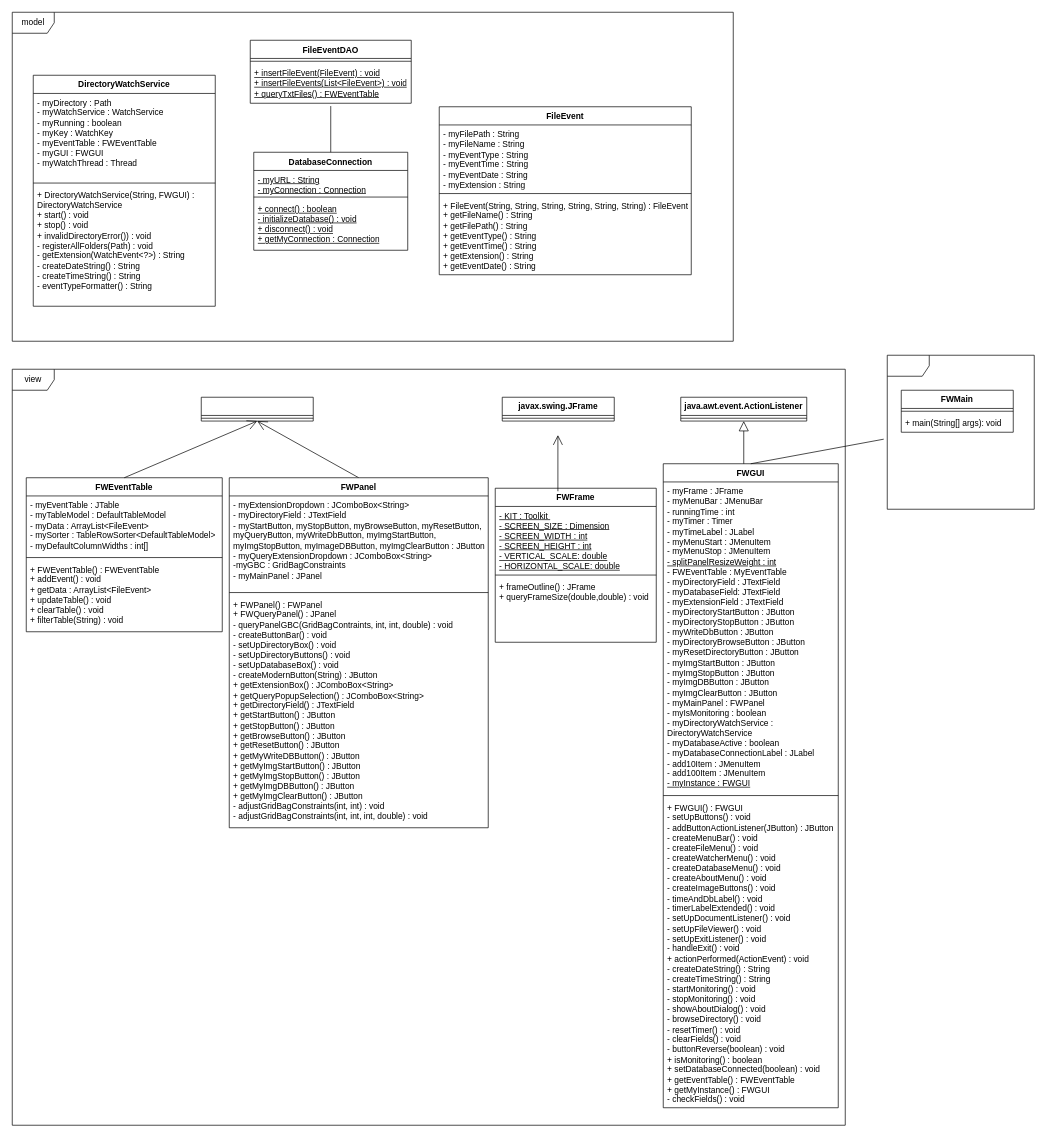
The diagram is 1047 pixels wide and 1138 high, and some of its shapes have lost their labels. Here are the shapes that lost their labels. From the top down, the centre of each, then its label:
At point (257, 409): "javax.swing.JPanel".
At point (960, 432): "controller".
